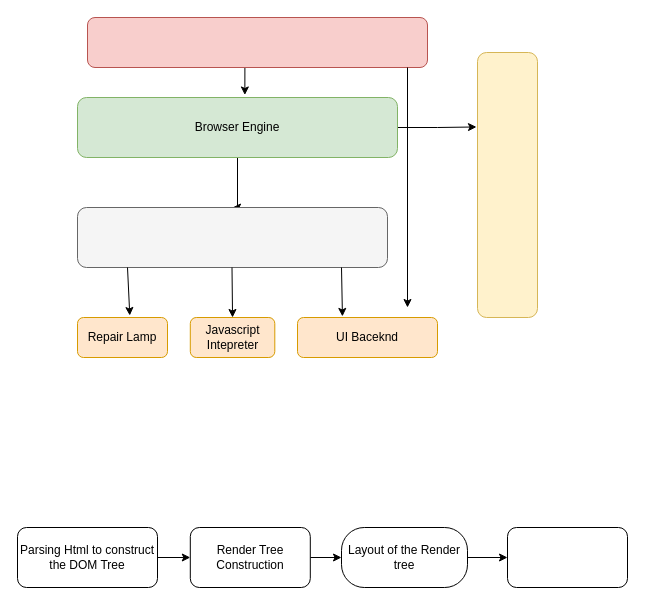
This 645x605 diagram has some shape labels left out. Here are the shapes that lost their labels. From the top down, the centre of each, then its label:
At point (257, 42): "User Interface".
At point (507, 185): "Data Persistance".
At point (232, 237): "Rendering Engine".
At point (567, 557): "Painting the render tree".
